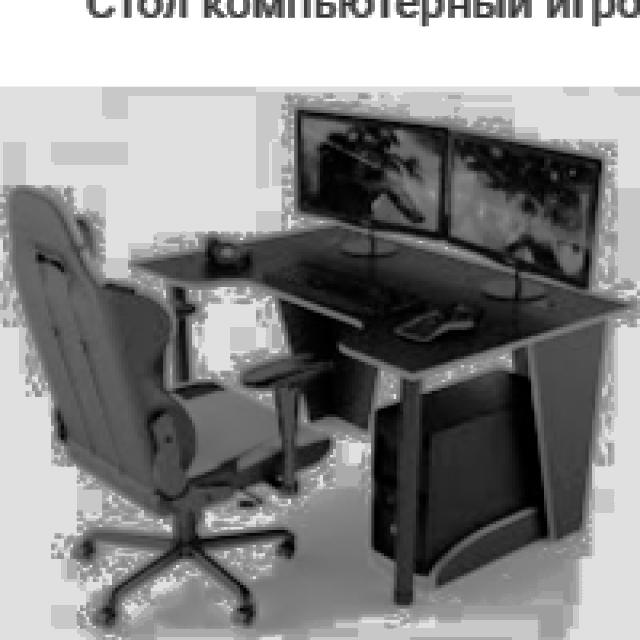book: (6, 186, 304, 628)
table: (132, 220, 630, 605)
